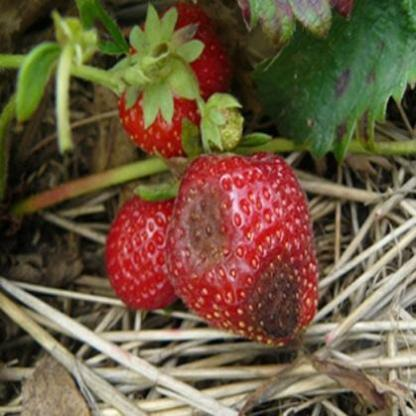Strawberry_Anthracnose_Fruit_Rot: (167, 176, 312, 346)
